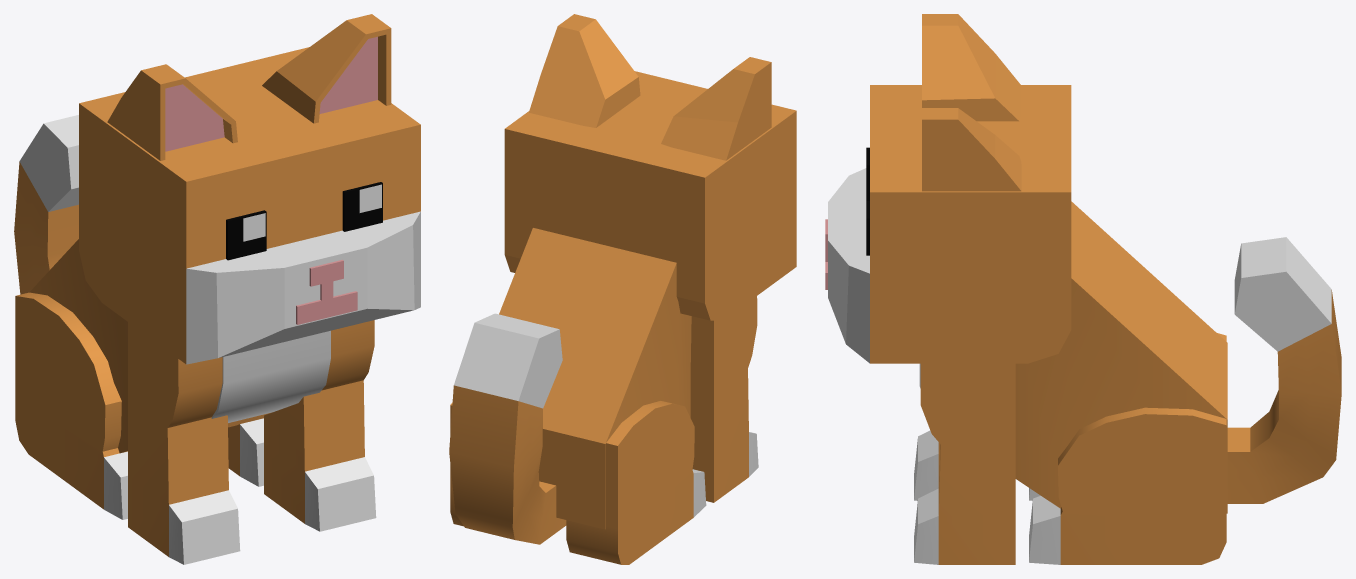
File: Kucing.fbx
3 renders of one model, left to right at view 1: azimuth 30°, elevation 25°; view 2: azimuth 150°, elevation 25°; view 3: azimuth 270°, elevation 25°, orthographic. The views are drawn at different scales.
Parts seen in each view (by area): view 1: Cat; view 2: Cat; view 3: Cat.
Part boxes in pixels (x1,y1,x2,y2): Cat: [14, 14, 420, 564]; Cat: [449, 14, 796, 564]; Cat: [825, 14, 1341, 564].
Bounding box in the file's own units: 35.58 × 70.09 × 72.39.
